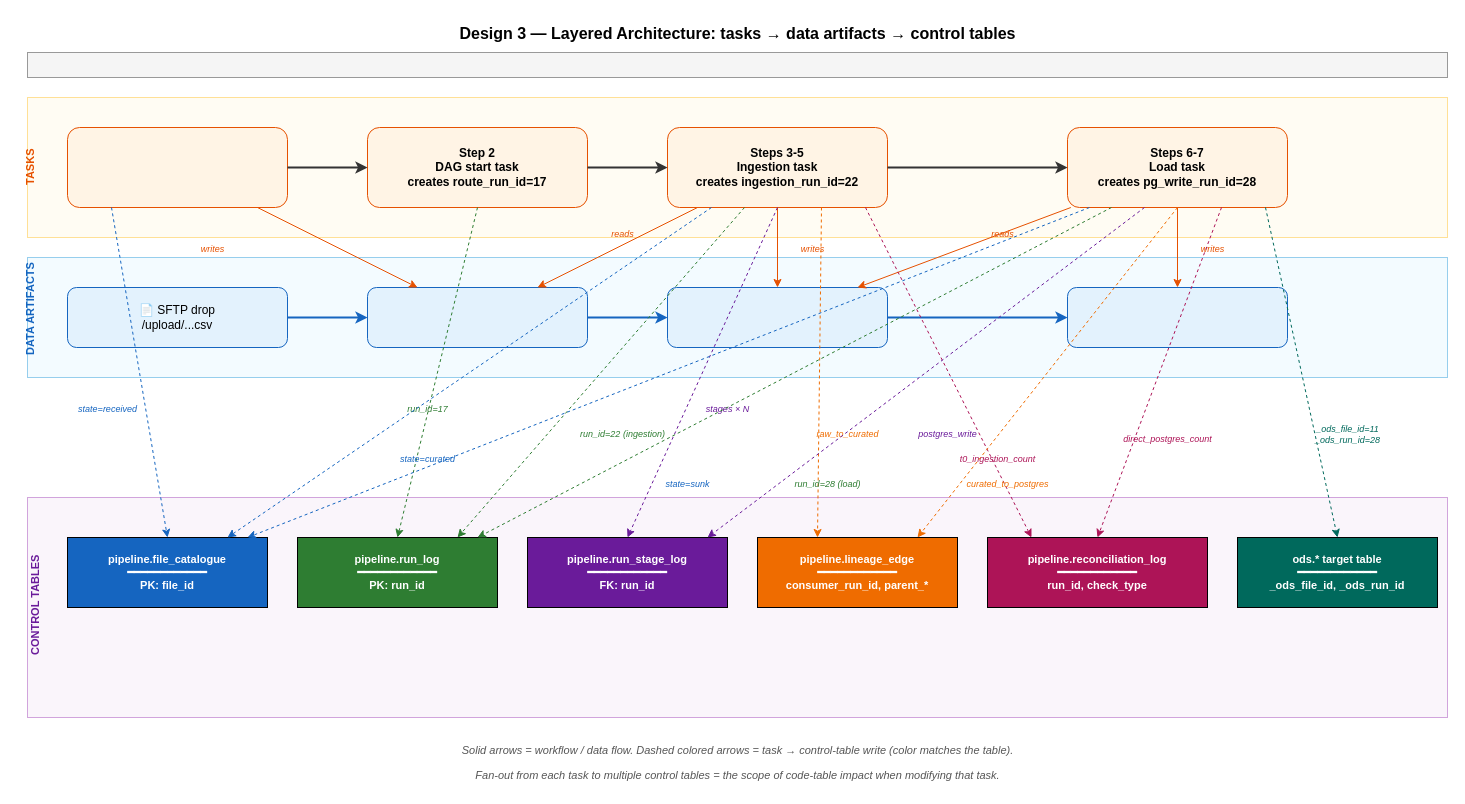
The diagram is 1465 pixels wide and 804 high, and some of its shapes have lost their labels. Here are the shapes that lost their labels. From the top down, the centre of each, then its label:
At [737,65]: "UUID legend: file_id=11 route_run_id=17 ingestion_run_id=22 pg_write_run_id=28".
At [177,167]: "Step 1 Landing task creates file_id=11".
At [477,317]: "📄 S3 raw s3://ods-raw/.../...csv".
At [777,317]: "📦 S3 curated s3://ods-curated/.../".
At [1177,317]: "💾 Postgres target ods.insurance_country_code".
